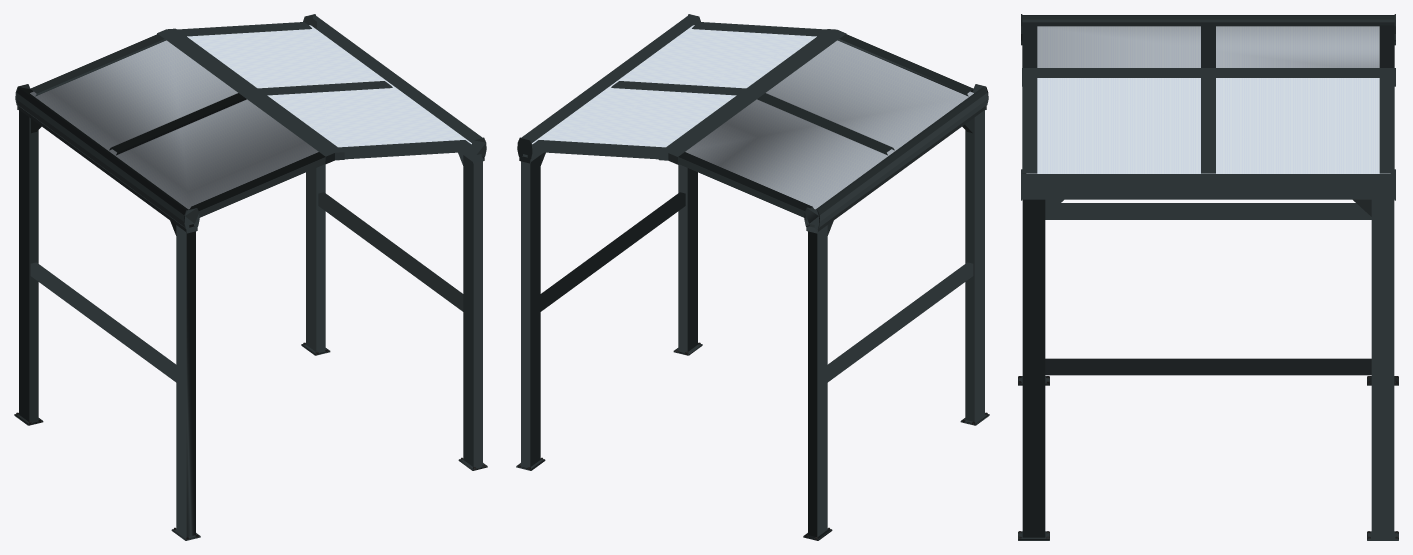
File: 13441_2pans.fbx
3 views of the same model, side by side, from view 1: azimuth 30°, elevation 25°; view 2: azimuth 150°, elevation 25°; view 3: azimuth 270°, elevation 25° (orthographic). The views are drawn at different scales.
Visible parts, largest first — view 1: priximbattable_net_abris_de_barbecue_13441_abris_barbecue_2_; view 2: priximbattable_net_abris_de_barbecue_13441_abris_barbecue_2_; view 3: priximbattable_net_abris_de_barbecue_13441_abris_barbecue_2_.
Part boxes in pixels (<box>): priximbattable_net_abris_de_barbecue_13441_abris_barbecue_2_: <box>14,14,487,540</box>; priximbattable_net_abris_de_barbecue_13441_abris_barbecue_2_: <box>516,14,989,540</box>; priximbattable_net_abris_de_barbecue_13441_abris_barbecue_2_: <box>1018,14,1398,540</box>.
Size of the model in its own units: 206 by 228 by 203.
Materials: 1 (1 with a texture image).
